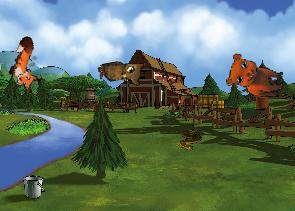bear: (225, 52, 286, 98)
fox: (2, 34, 53, 95)
owl: (96, 57, 147, 92)
